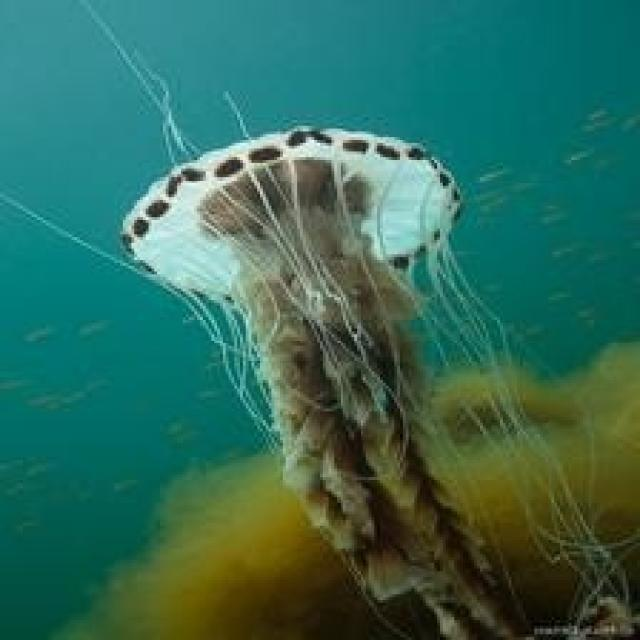Jellyfish: (68, 99, 540, 610)
